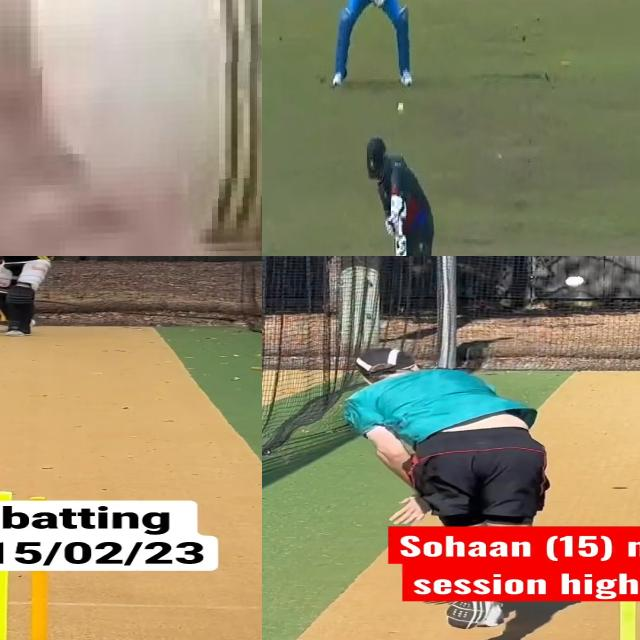Cricket ball: (27, 0, 262, 256), (564, 276, 584, 288), (397, 100, 405, 116)
Stumps: (0, 569, 61, 640)
